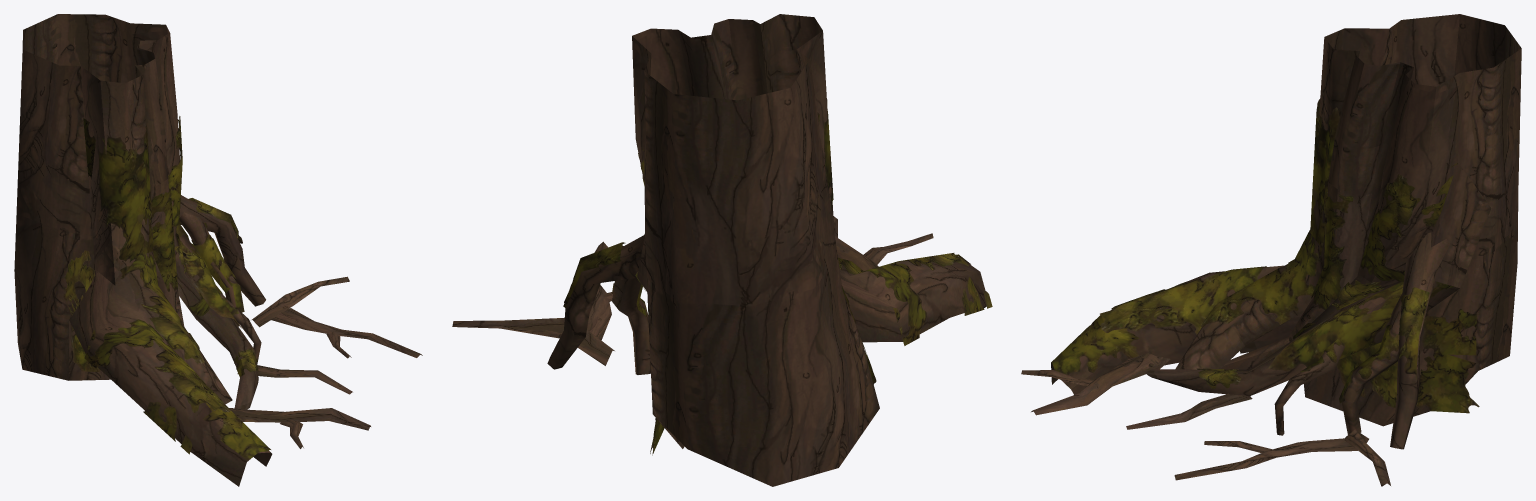
Rendered from 2_Plant_GuShu_01.FBX.
3 views of the same model, side by side, from view 1: azimuth 30°, elevation 25°; view 2: azimuth 150°, elevation 25°; view 3: azimuth 270°, elevation 25° (orthographic). The views are drawn at different scales.
Visible parts, largest first — view 1: 2_Plant_GuShu_01_01, 2_Plant_GuShu_01_03, 2_Plant_GuShu_01_02, 2_Plant_GuShu_01_05, 2_Plant_GuShu_01_04; view 2: 2_Plant_GuShu_01_01, 2_Plant_GuShu_01_02, 2_Plant_GuShu_01_05, 2_Plant_GuShu_01_04; view 3: 2_Plant_GuShu_01_01, 2_Plant_GuShu_01_03, 2_Plant_GuShu_01_02, 2_Plant_GuShu_01_05, 2_Plant_GuShu_01_04.
Boxes of the visible parts, x1,y1,x2,y2 form: 2_Plant_GuShu_01_01: (14, 14, 272, 486); 2_Plant_GuShu_01_03: (176, 223, 352, 409); 2_Plant_GuShu_01_02: (179, 195, 265, 326); 2_Plant_GuShu_01_05: (252, 276, 422, 358); 2_Plant_GuShu_01_04: (229, 408, 370, 448); 2_Plant_GuShu_01_01: (632, 14, 992, 486); 2_Plant_GuShu_01_02: (547, 233, 650, 374); 2_Plant_GuShu_01_05: (452, 241, 614, 365); 2_Plant_GuShu_01_04: (833, 216, 933, 270); 2_Plant_GuShu_01_01: (1051, 14, 1521, 426); 2_Plant_GuShu_01_03: (1126, 281, 1459, 435); 2_Plant_GuShu_01_02: (1339, 232, 1449, 449); 2_Plant_GuShu_01_05: (1174, 429, 1390, 486); 2_Plant_GuShu_01_04: (1021, 353, 1170, 415).
Size of the model in its own units: 1171 by 1130 by 1451.
2 materials, 2 textured.
